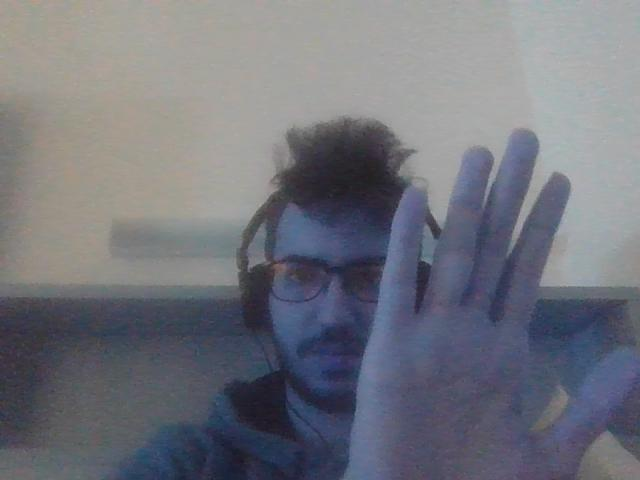Hello: (345, 124, 639, 478)
